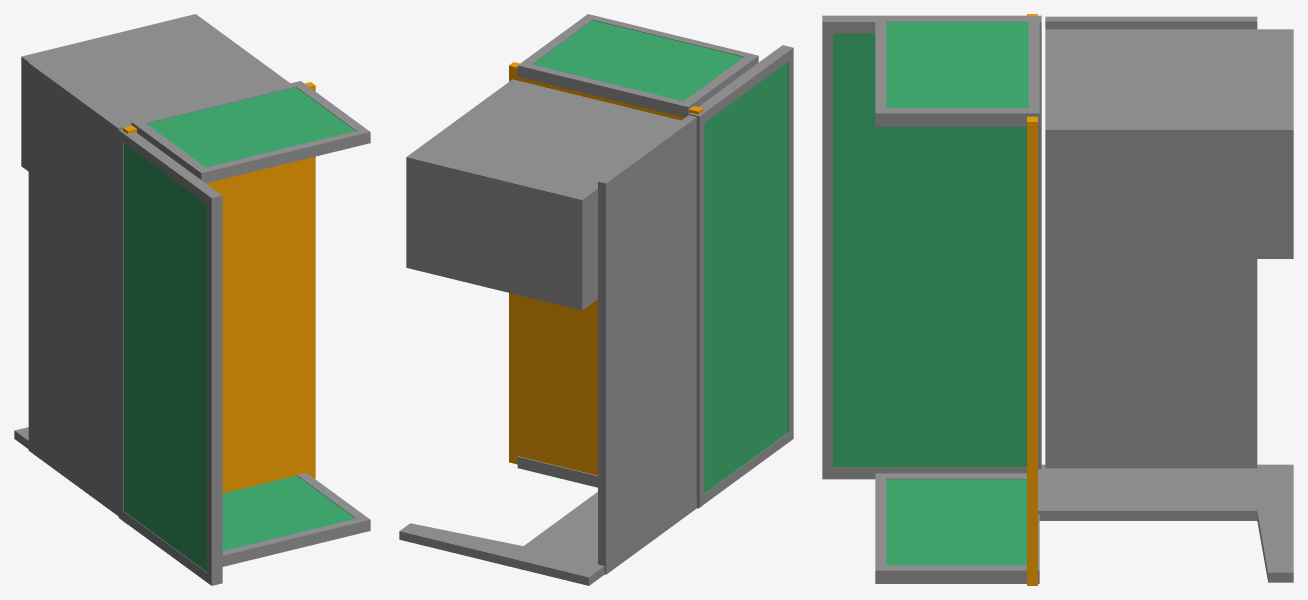
The model's file is nil_link_mesh.dae.
3 views of the same model, side by side, from view 1: azimuth 30°, elevation 25°; view 2: azimuth 150°, elevation 25°; view 3: azimuth 270°, elevation 25° (orthographic). The views are drawn at different scales.
Parts seen in each view (by area): view 1: nil_link (×9); view 2: nil_link (×9); view 3: nil_link (×10).
Boxes of the visible parts, x1,y1,x2,y2 form: nil_link (×9): (21, 14, 370, 585); nil_link (×9): (399, 14, 793, 585); nil_link (×10): (822, 14, 1293, 585).
Size of the model in its own units: 0.71 by 1.42 by 1.29.
